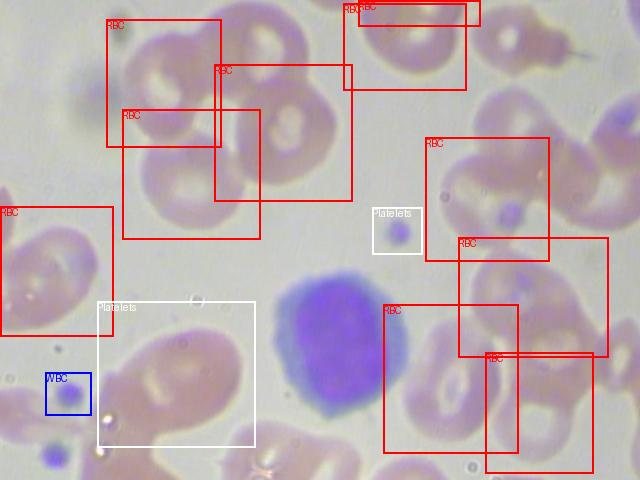Platelets: (97, 301, 255, 447), (372, 207, 422, 254)
RBC: (383, 304, 518, 453), (214, 64, 352, 201), (458, 237, 608, 357), (122, 109, 260, 239), (425, 137, 549, 261), (106, 19, 221, 147), (0, 206, 113, 336), (485, 352, 593, 473), (343, 3, 466, 90), (358, 0, 480, 26)
WBC: (45, 372, 91, 415)
